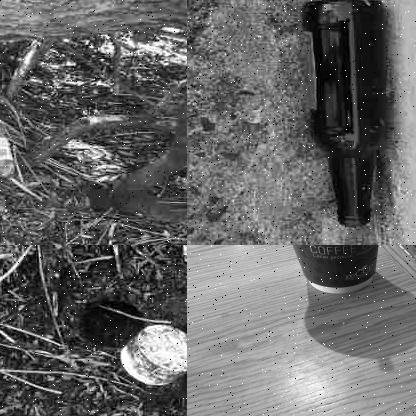glass: (298, 0, 391, 231)
plastic: (260, 245, 386, 295), (126, 318, 186, 389), (0, 119, 14, 179)
